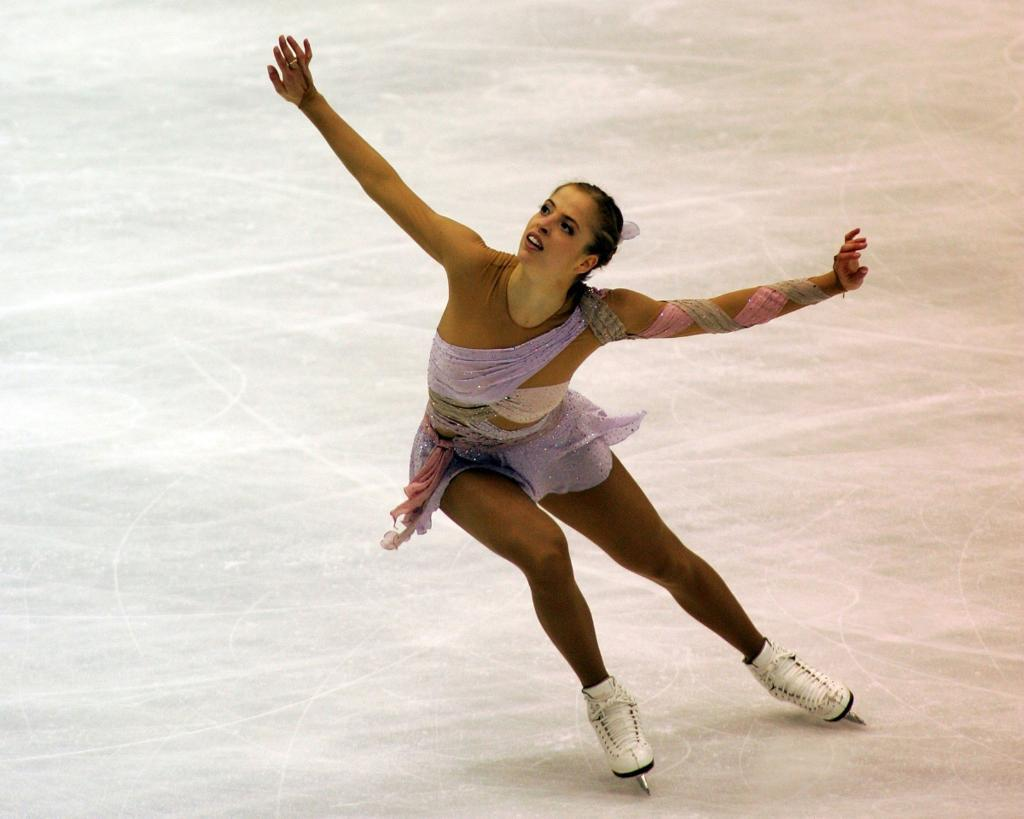face: (523, 181, 601, 277)
